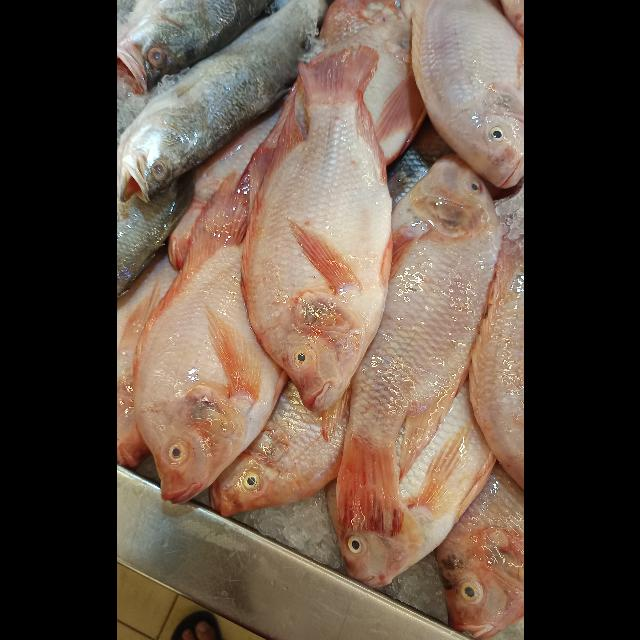Tilapia: (336, 152, 504, 536), (238, 45, 390, 413), (132, 170, 290, 504), (411, 1, 523, 188), (208, 380, 352, 518)
